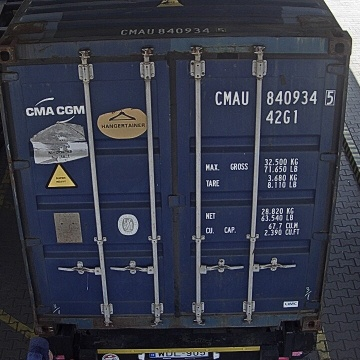serial_id: (215, 90, 334, 105)
